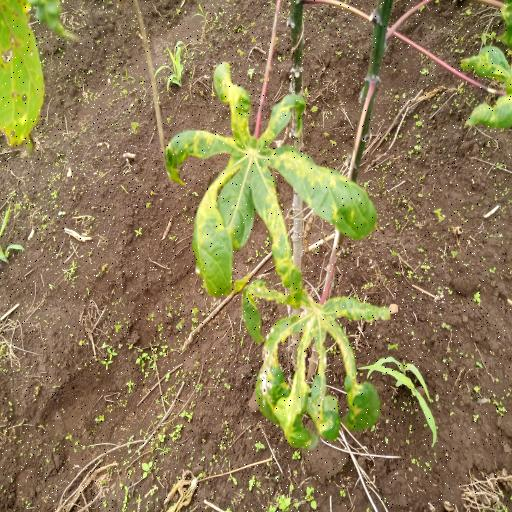Cassava_Mosaic: (166, 70, 361, 303), (236, 285, 396, 444)
